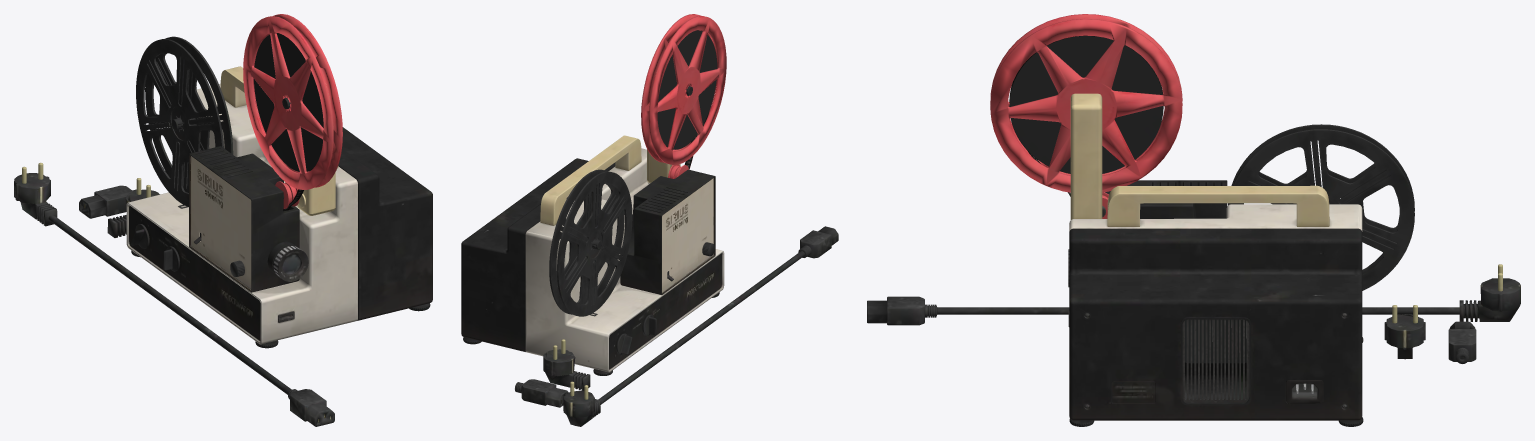
The model's file is projector.glb.
3 renders of one model, left to right at view 1: azimuth 30°, elevation 25°; view 2: azimuth 150°, elevation 25°; view 3: azimuth 270°, elevation 25°, orthographic. The views are drawn at different scales.
Parts seen in each view (by area): view 1: filmstrip_projector_8mm_takeup_holder; view 2: filmstrip_projector_8mm_takeup_holder; view 3: filmstrip_projector_8mm_takeup_holder.
Boxes of the visible parts, left/top/right/bottom form: filmstrip_projector_8mm_takeup_holder: left=14, top=14, right=432, bottom=426; filmstrip_projector_8mm_takeup_holder: left=461, top=14, right=838, bottom=426; filmstrip_projector_8mm_takeup_holder: left=867, top=14, right=1520, bottom=426.
Size of the model in its own units: 0.2537 by 0.3454 by 0.6026.
Materials: 2 (2 with a texture image).
